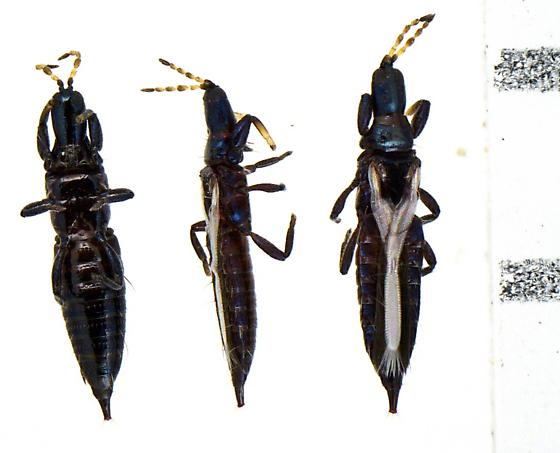Phlaeothripidae: (141, 56, 299, 408), (329, 11, 444, 418), (15, 49, 135, 421)
